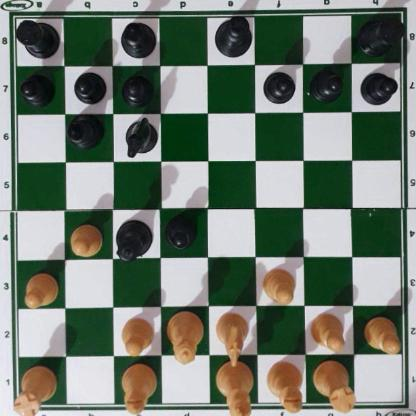black-bishop: (119, 19, 157, 56), (65, 114, 104, 149)
black-king: (215, 14, 253, 58)
black-knight: (123, 116, 156, 155)
black-pawn: (359, 69, 396, 105), (309, 68, 344, 101), (20, 71, 54, 104), (262, 68, 295, 102), (73, 69, 105, 104), (165, 213, 197, 248), (121, 70, 152, 105)
black-queen: (114, 219, 151, 261)
black-rook: (12, 16, 59, 58), (358, 11, 401, 55)
white-bishop: (119, 363, 160, 416), (266, 361, 304, 414)
white-king: (215, 358, 254, 416)
white-knight: (215, 311, 249, 364)
white-pawn: (363, 314, 400, 351), (67, 221, 104, 257), (22, 271, 58, 307), (261, 265, 295, 303), (120, 317, 154, 355)
white-queen: (168, 309, 202, 364)
white-rook: (311, 363, 357, 414), (15, 361, 55, 416)
